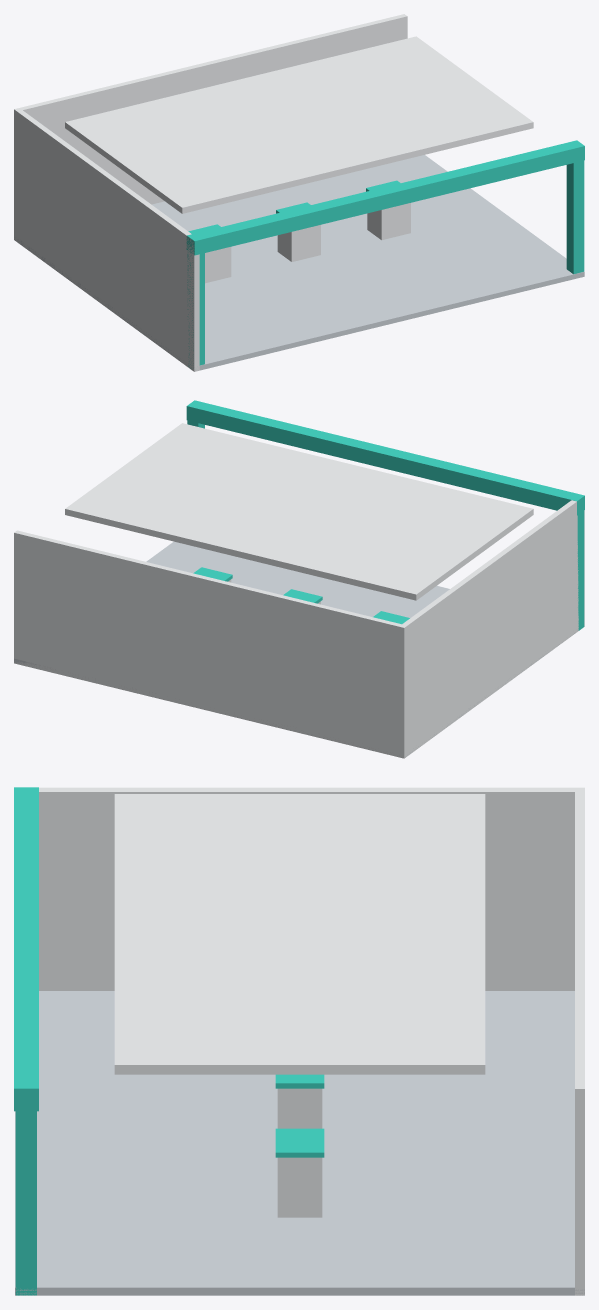
The picture shows the model from 3 angles, top to bottom: view 1: azimuth 30°, elevation 25°; view 2: azimuth 150°, elevation 25°; view 3: azimuth 270°, elevation 25°; orthographic projection. The views are drawn at different scales.
Parts seen in each view (by area): view 1: Exhibition Booth Concept; view 2: Exhibition Booth Concept; view 3: Exhibition Booth Concept.
Boxes of the visible parts, x1,y1,x2,y2 form: Exhibition Booth Concept: [14, 14, 584, 371]; Exhibition Booth Concept: [14, 400, 584, 758]; Exhibition Booth Concept: [14, 787, 584, 1295].
Bounding box in the file's own units: 10 × 3.34 × 8.01.
